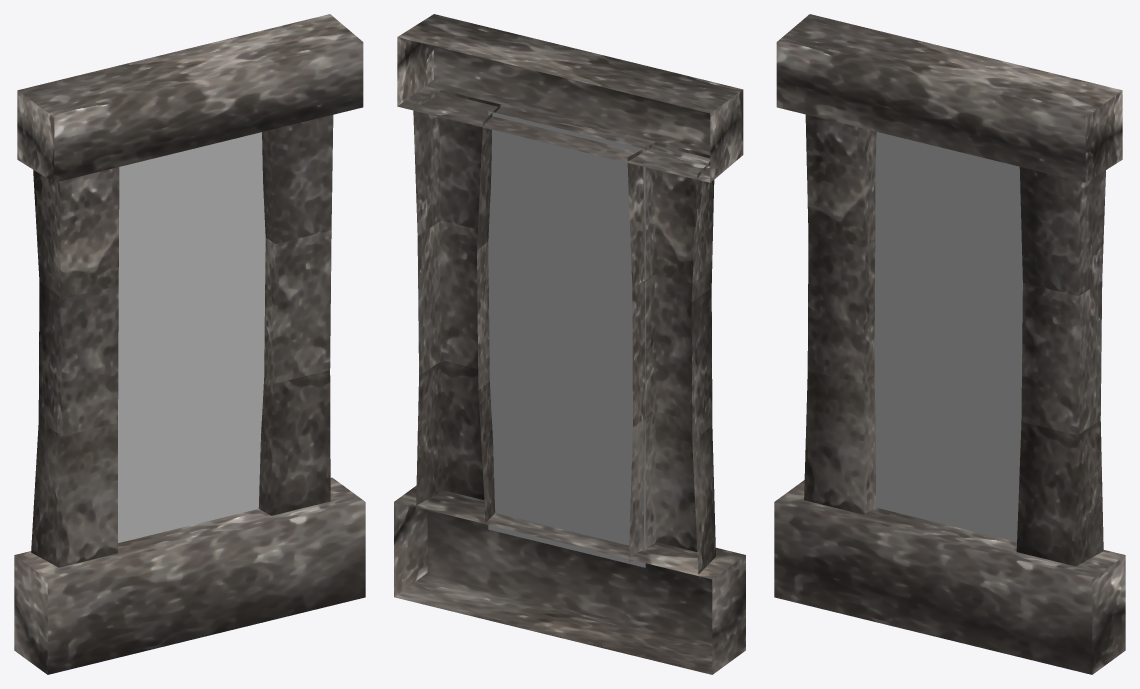
File: WindowG_1.fbx
3 renders of one model, left to right at view 1: azimuth 30°, elevation 25°; view 2: azimuth 150°, elevation 25°; view 3: azimuth 330°, elevation 25°, orthographic.
Visible parts, largest first — view 1: Mesh; view 2: Mesh; view 3: Mesh.
Part boxes in pixels (left/top/right/bottom): Mesh: left=14, top=14, right=365, bottom=674; Mesh: left=394, top=14, right=745, bottom=674; Mesh: left=774, top=14, right=1125, bottom=674.
Bounding box in the file's own units: 93.77 × 158 × 18.12.
